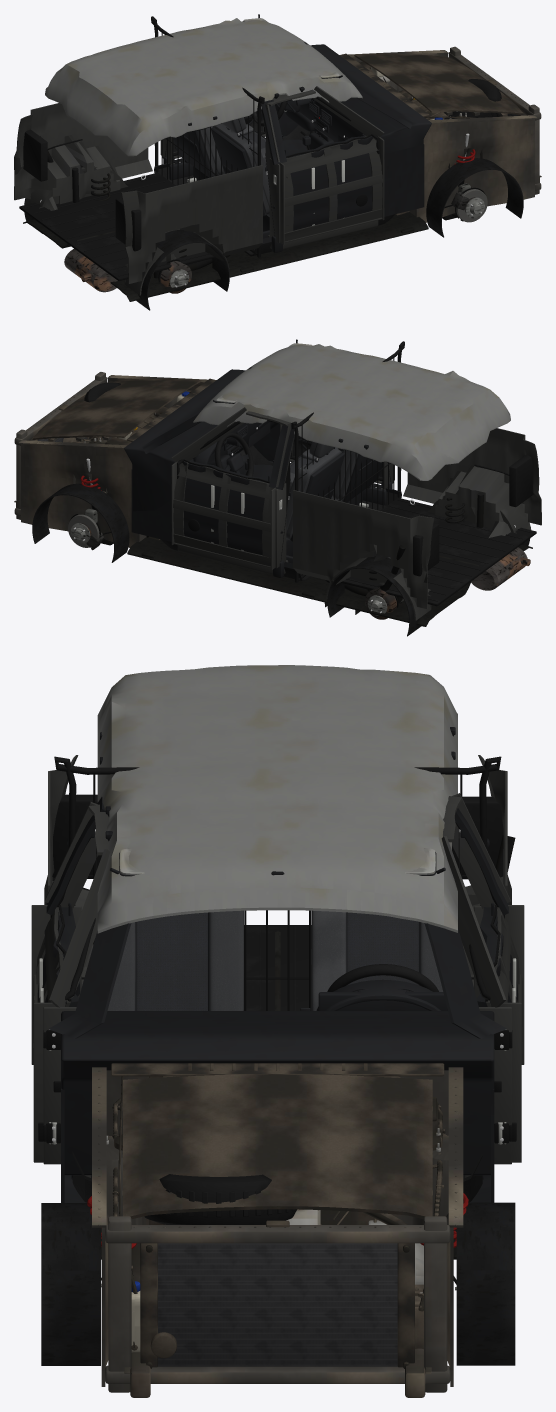
File: furgaozinho-da-firma_completo.glb
3 views of the same model, one above another, from view 1: azimuth 30°, elevation 25°; view 2: azimuth 150°, elevation 25°; view 3: azimuth 270°, elevation 25° (orthographic). The views are drawn at different scales.
Visible parts, largest first — view 1: interior_forro_teto, interior_carga, engine_paralama_interno_dir, door_card_fr_chapa, hood_manta, interior_painel, under_assoalho, door_card_fr, interior_acabamento_pe_dir, under_caixa_roda_fr, jamb_fr_colunas, interior_banco_dianteiro_dir (+19 smaller); view 2: interior_forro_teto, interior_carga, engine_paralama_interno_esq, interior_painel, door_card_fl_chapa, hood_manta, under_assoalho, door_card_fl, under_caixa_roda_fl, jamb_fl_colunas, interior_banco_dianteiro_esq, interior_portamalas_lanternas (+19 smaller); view 3: interior_forro_teto, hood_manta, engine_radiador, interior_painel, engine_travessa, interior_banco_dianteiro_dir, under_caixa_roda_fl, interior_acabamento_colunas, under_caixa_roda_fr, interior_carga, interior_banco_dianteiro_esq, jamb_fl_colunas (+19 smaller).
Part boxes in pixels (x1=…): interior_forro_teto: x1=45, y1=18, x2=362, y2=156; interior_carga: x1=14, y1=103, x2=262, y2=295; engine_paralama_interno_dir: x1=416, y1=112, x2=537, y2=222; door_card_fr_chapa: x1=279, y1=136, x2=384, y2=244; hood_manta: x1=354, y1=53, x2=523, y2=116; interior_painel: x1=285, y1=44, x2=431, y2=153; under_assoalho: x1=23, y1=212, x2=428, y2=301; door_card_fr: x1=284, y1=135, x2=372, y2=230; interior_acabamento_pe_dir: x1=384, y1=144, x2=424, y2=216; under_caixa_roda_fr: x1=426, y1=158, x2=523, y2=237; jamb_fr_colunas: x1=262, y1=86, x2=384, y2=243; interior_banco_dianteiro_dir: x1=211, y1=117, x2=269, y2=231; interior_forro_teto: x1=193, y1=344, x2=510, y2=480; interior_carga: x1=293, y1=428, x2=541, y2=620; engine_paralama_interno_esq: x1=18, y1=437, x2=139, y2=547; interior_painel: x1=124, y1=369, x2=278, y2=511; door_card_fl_chapa: x1=171, y1=461, x2=276, y2=569; hood_manta: x1=32, y1=378, x2=201, y2=441; under_assoalho: x1=127, y1=537, x2=532, y2=626; door_card_fl: x1=182, y1=460, x2=269, y2=555; under_caixa_roda_fl: x1=32, y1=483, x2=129, y2=562; jamb_fl_colunas: x1=171, y1=407, x2=294, y2=568; interior_banco_dianteiro_esq: x1=286, y1=441, x2=344, y2=556; interior_portamalas_lanternas: x1=413, y1=454, x2=533, y2=576; interior_forro_teto: x1=97, y1=665, x2=457, y2=933; hood_manta: x1=122, y1=1074, x2=432, y2=1219; engine_radiador: x1=140, y1=1243, x2=414, y2=1368; interior_painel: x1=61, y1=979, x2=494, y2=1175; engine_travessa: x1=105, y1=1211, x2=450, y2=1392; interior_banco_dianteiro_dir: x1=107, y1=910, x2=243, y2=1010; under_caixa_roda_fl: x1=456, y1=1202, x2=515, y2=1365; interior_acabamento_colunas: x1=46, y1=797, x2=508, y2=1038; under_caixa_roda_fr: x1=41, y1=1203, x2=100, y2=1365; interior_carga: x1=44, y1=755, x2=511, y2=1010; interior_banco_dianteiro_esq: x1=311, y1=910, x2=443, y2=1010; jamb_fl_colunas: x1=441, y1=793, x2=511, y2=1164.
Size of what is drawn, in the model's own units: 3.54 by 1.48 by 1.68.
53 materials, 53 textured.
